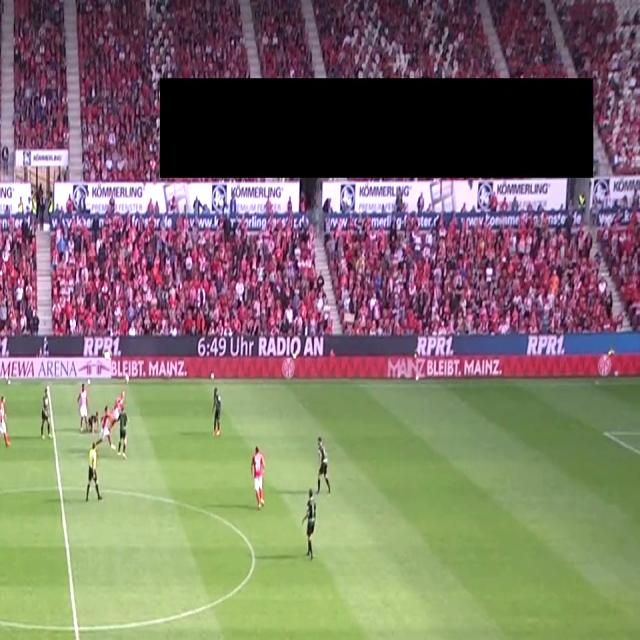ball: (123, 370, 130, 390)
referee: (78, 444, 105, 510)
soccer-player: (101, 390, 136, 463), (292, 487, 323, 566), (248, 443, 274, 514), (312, 435, 338, 501), (37, 379, 60, 442), (206, 383, 228, 440), (74, 376, 95, 434), (0, 388, 15, 451)
